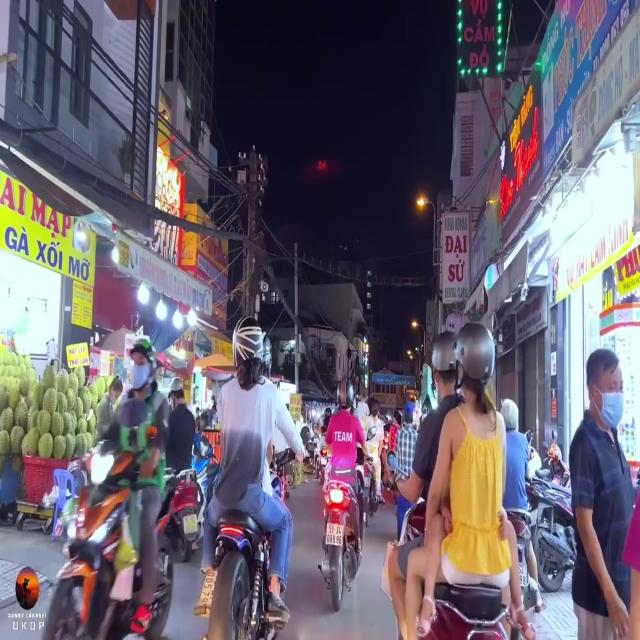bien_trang: (326, 518, 344, 548)
